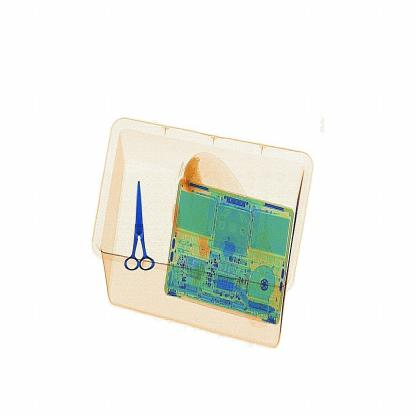gun: (122, 167, 167, 280)
